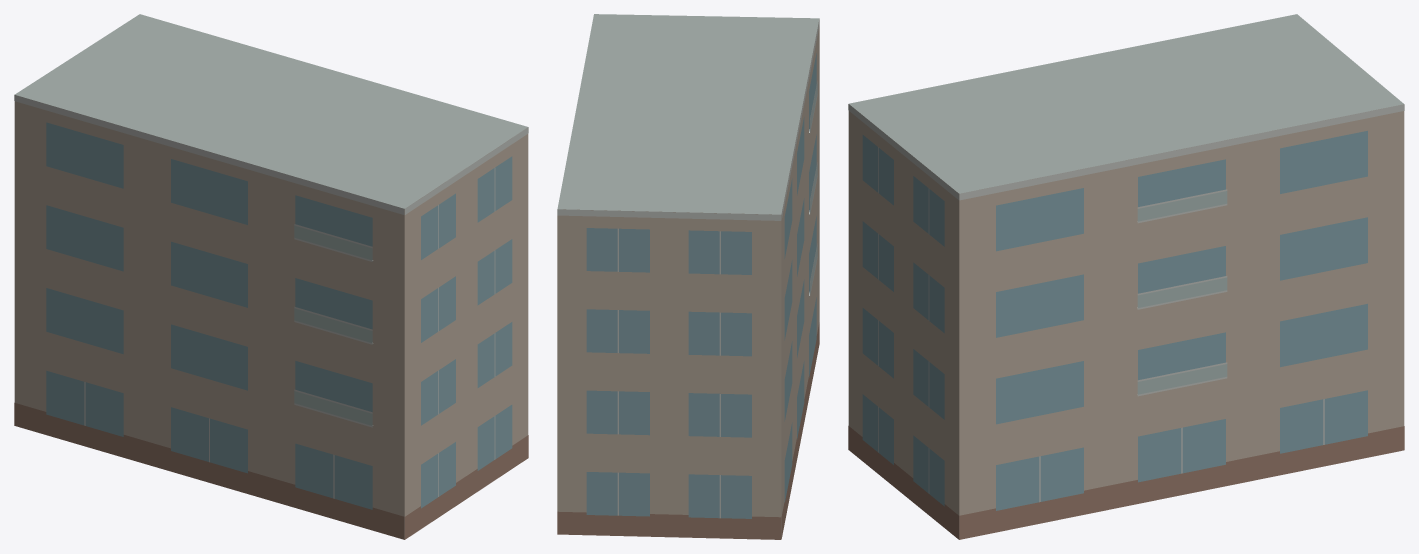
The model's file is survey-upis-32763343.glb.
3 views of the same model, side by side, from view 1: azimuth 30°, elevation 25°; view 2: azimuth 150°, elevation 25°; view 3: azimuth 270°, elevation 25° (orthographic). The views are drawn at different scales.
Parts seen in each view (by area): view 1: survey-upis-32763343.tmp; view 2: survey-upis-32763343.tmp; view 3: survey-upis-32763343.tmp.
Boxes of the visible parts, left/top/right/bottom form: survey-upis-32763343.tmp: left=14, top=14, right=528, bottom=539; survey-upis-32763343.tmp: left=557, top=14, right=819, bottom=539; survey-upis-32763343.tmp: left=848, top=14, right=1404, bottom=539.
Size of the model in its own units: 14.05 by 12.6 by 18.35.
